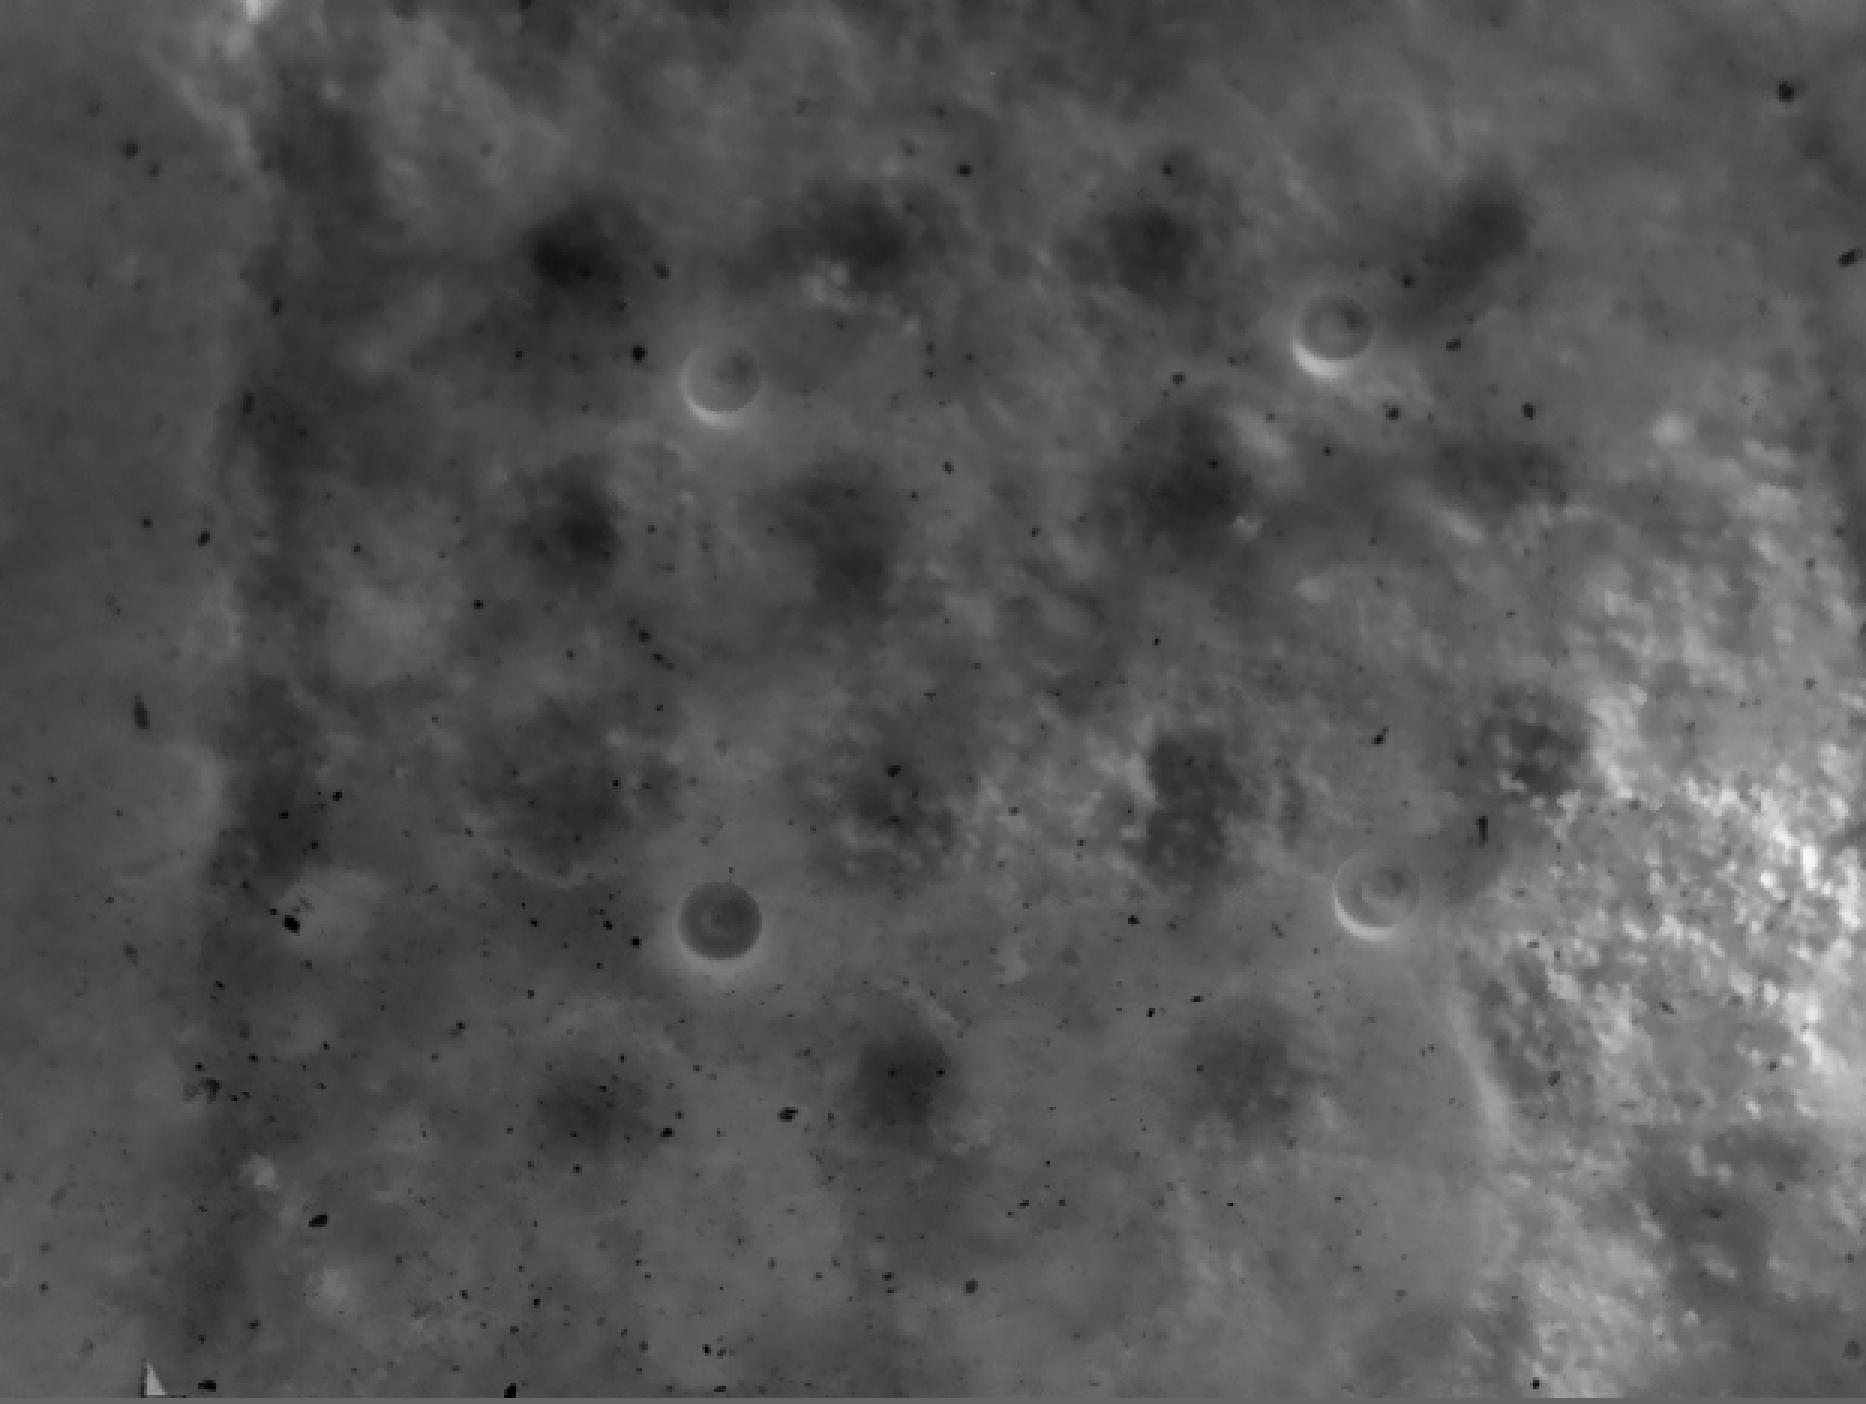mines-gjV8: (676, 875, 766, 960), (1348, 855, 1423, 941), (1303, 295, 1370, 383), (684, 342, 760, 420)
